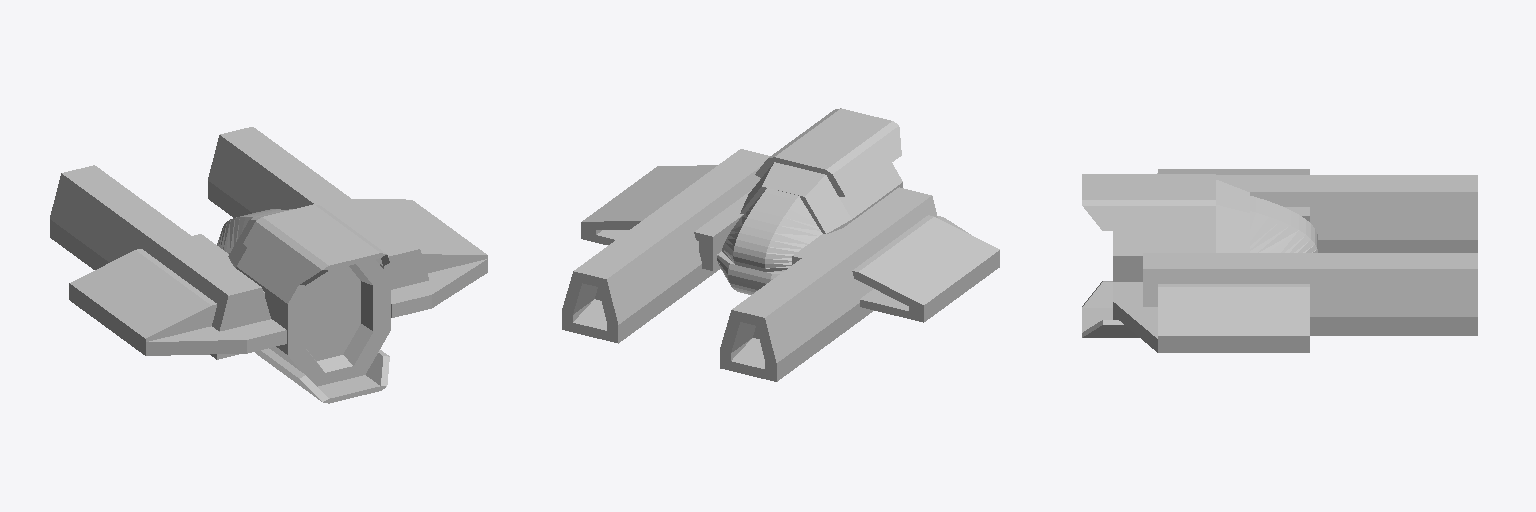
The model's file is GeminiG1.obj.
3 views of the same model, side by side, from view 1: azimuth 30°, elevation 25°; view 2: azimuth 150°, elevation 25°; view 3: azimuth 270°, elevation 25° (orthographic).
Parts seen in each view (by area): view 1: engine_high_4, engine_barrelTop_0, engine_barrelTop_1, engine_corner_2, engine_corner_3, wing_endLong_13, wing_endLong_14, glass_curved_6; view 2: engine_barrelTop_0, engine_barrelTop_1, engine_high_4, engine_corner_2, engine_corner_3, glass_curved_6, glass_curved_7; view 3: engine_barrelTop_1, engine_barrelTop_0, engine_high_4, engine_corner_3, glass_curved_6, wing_endLong_14, engine_corner_2.
Boxes of the visible parts, x1,y1,x2,y2 form: engine_high_4: [228, 204, 390, 403]; engine_barrelTop_0: [50, 165, 270, 359]; engine_barrelTop_1: [208, 127, 428, 289]; engine_corner_2: [69, 234, 264, 355]; engine_corner_3: [353, 199, 487, 273]; wing_endLong_13: [146, 319, 286, 355]; wing_endLong_14: [391, 259, 487, 317]; glass_curved_6: [217, 209, 284, 253]; engine_barrelTop_0: [720, 187, 937, 381]; engine_barrelTop_1: [562, 149, 769, 343]; engine_high_4: [740, 108, 902, 233]; engine_corner_2: [792, 215, 999, 322]; engine_corner_3: [581, 165, 751, 270]; glass_curved_6: [722, 188, 822, 271]; glass_curved_7: [717, 251, 781, 294]; engine_barrelTop_1: [1143, 253, 1477, 335]; engine_barrelTop_0: [1216, 175, 1477, 252]; engine_high_4: [1082, 174, 1249, 337]; engine_corner_3: [1158, 284, 1309, 352]; glass_curved_6: [1250, 196, 1317, 252]; wing_endLong_14: [1113, 282, 1157, 352]; engine_corner_2: [1158, 169, 1309, 221].
Size of the model in its own units: 2.6 by 1 by 2.6.